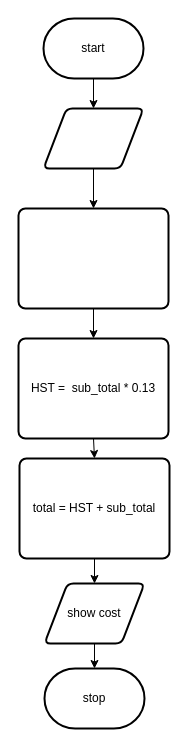
This 187x746 diagram has some shape labels left out. The shapes that lost their labels are listed below. From the top down, each one's box as (x1, y1, x2, y2) in pixels, then its label:
(42, 107, 144, 169): get diameter
(17, 207, 169, 309): sub_total = 1.00 + 0.75 + (0.5 * diameter
